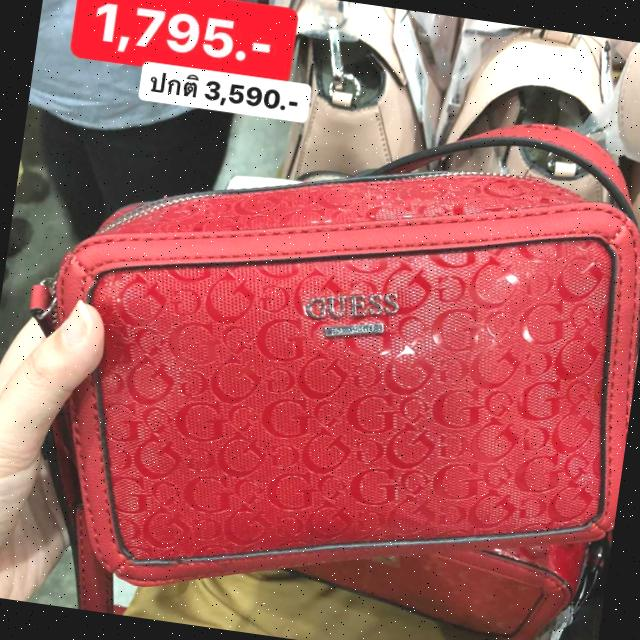Handbag: (15, 112, 640, 640)
